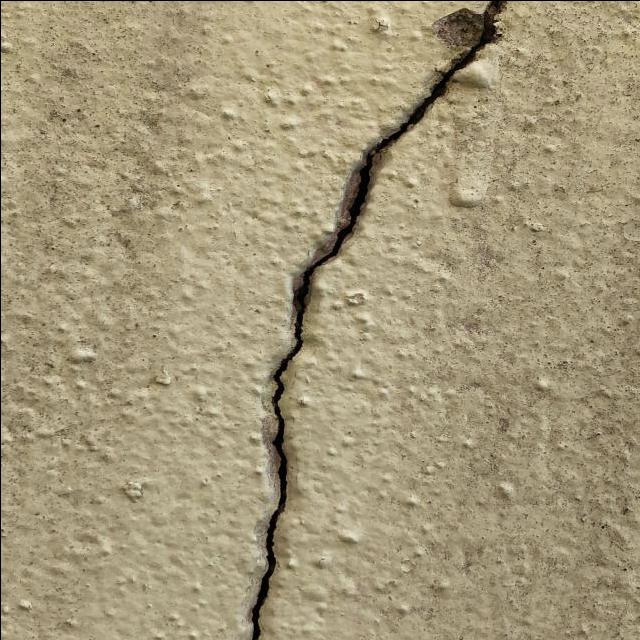SurfaceCrack: (201, 0, 536, 640)
